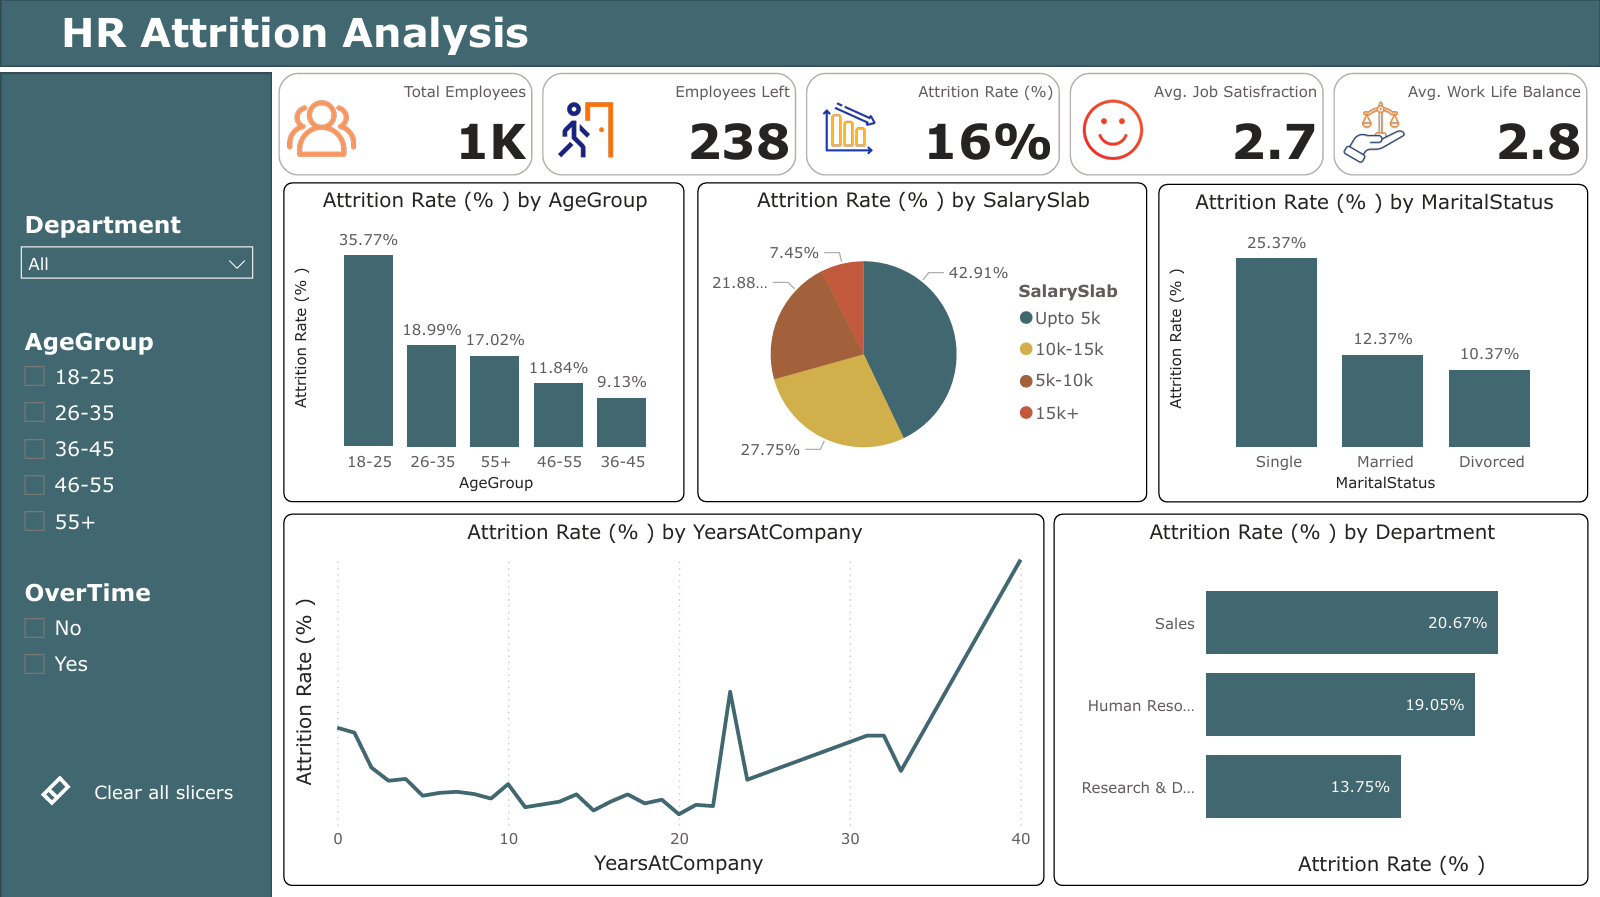

Layout of this report page (visuals, bound fields, positions):
{"tool":"powerbi","page":{"name":"Dashboard","canvas":[1280,720],"ordinal":0},"visuals":[{"type":"shape","box":[0,58.6,217.1,661.4],"z":0},{"type":"shape","box":[0,0,1280,53.8],"z":1000},{"type":"textbox","box":[43.8,1.2,393.8,52.5],"z":2000},{"type":"cardVisual","fields":{"Data":["Measures Table.Total Employees","Measures Table.Employees Left","Measures Table.Attrition Rate (%)","Measures Table.Avg. Job Satisfraction","Measures Table.Avg. Work Life Balance"]},"box":[217.5,53.8,1061,92.5],"z":3000},{"type":"columnChart","fields":{"Category":["HR_Analytics.AgeGroup"],"Y":["Measures Table.Attrition Rate (%)"]},"box":[226.2,146.2,321.2,256.2],"z":4000},{"type":"barChart","fields":{"Category":["HR_Analytics.Department"],"Y":["Measures Table.Attrition Rate (%)"]},"box":[842,411,428,298],"z":5000},{"type":"pieChart","fields":{"Category":["HR_Analytics.SalarySlab"],"Y":["Measures Table.Attrition Rate (%)"]},"box":[557.5,146.2,360,256.2],"z":6000},{"type":"lineChart","fields":{"Y":["Measures Table.Attrition Rate (%)"],"Category":["HR_Analytics.YearsAtCompany"]},"box":[226.2,411.2,608.8,297.5],"z":7000},{"type":"columnChart","fields":{"Category":["HR_Analytics.MaritalStatus"],"Y":["Measures Table.Attrition Rate (%)"]},"box":[926,147,344,255],"z":8000},{"type":"slicer","fields":{"Values":["HR_Analytics.Department"]},"box":[5.7,162.3,205.7,74.3],"z":9000},{"type":"slicer","fields":{"Values":["HR_Analytics.AgeGroup"]},"box":[5.7,256.6,205.7,191.4],"z":10000},{"type":"slicer","fields":{"Values":["HR_Analytics.OverTime"]},"box":[5.7,458,205.7,97.1],"z":11000},{"type":"actionButton","box":[28.6,612.9,161.4,41.4],"z":12000}]}

Visuals, with their boxes in screenshot pixels (x1, y1, x2, y2), scaled from the page's 1280x720 canvas onto the 1600x897 screenshot:
shape: 0,73,271,896
shape: 0,0,1599,67
textbox: 55,1,547,67
cardVisual - Measures Table.Total Employees x Measures Table.Employees Left: 272,67,1598,182
columnChart - HR_Analytics.AgeGroup x Measures Table.Attrition Rate (%): 283,182,684,501
barChart - HR_Analytics.Department x Measures Table.Attrition Rate (%): 1052,512,1588,883
pieChart - HR_Analytics.SalarySlab x Measures Table.Attrition Rate (%): 697,182,1147,501
lineChart - Measures Table.Attrition Rate (%) x HR_Analytics.YearsAtCompany: 283,512,1044,883
columnChart - HR_Analytics.MaritalStatus x Measures Table.Attrition Rate (%): 1158,183,1588,501
slicer - HR_Analytics.Department: 7,202,264,295
slicer - HR_Analytics.AgeGroup: 7,320,264,558
slicer - HR_Analytics.OverTime: 7,571,264,692
actionButton: 36,764,238,815
